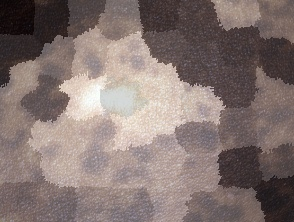vitiligo: (33, 41, 192, 159)
